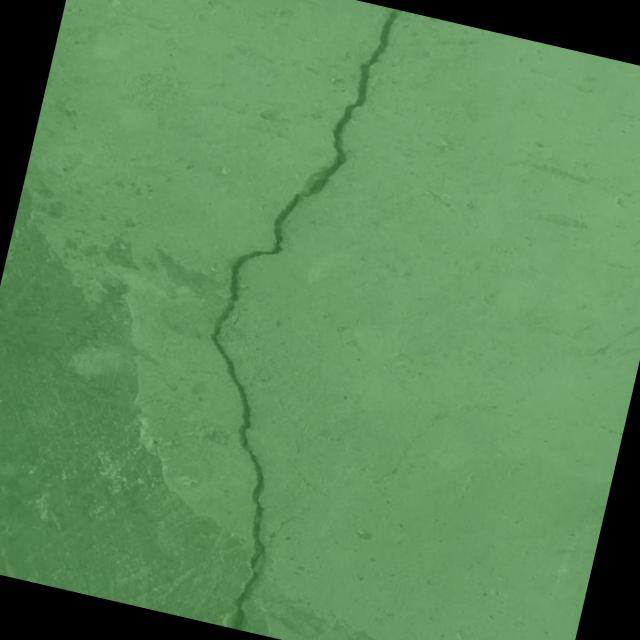crack: (86, 0, 423, 639), (371, 382, 498, 506), (256, 393, 335, 491)
